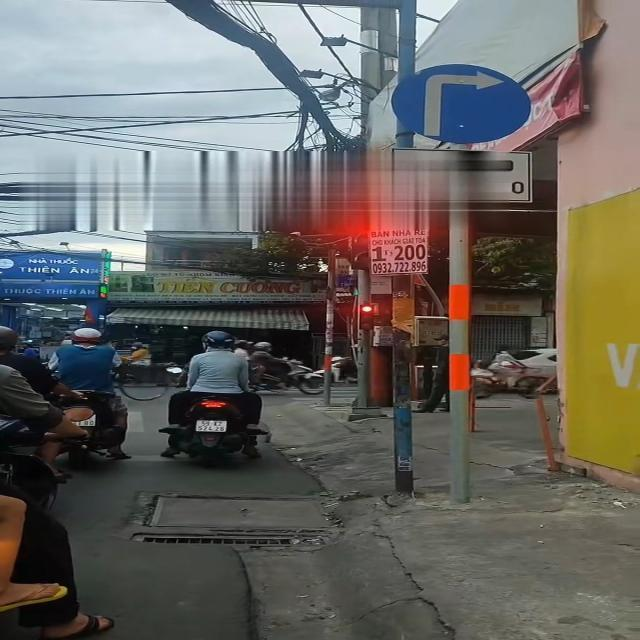301d-cac-xe-chi-duoc-re-phai-2: (389, 61, 533, 146)
